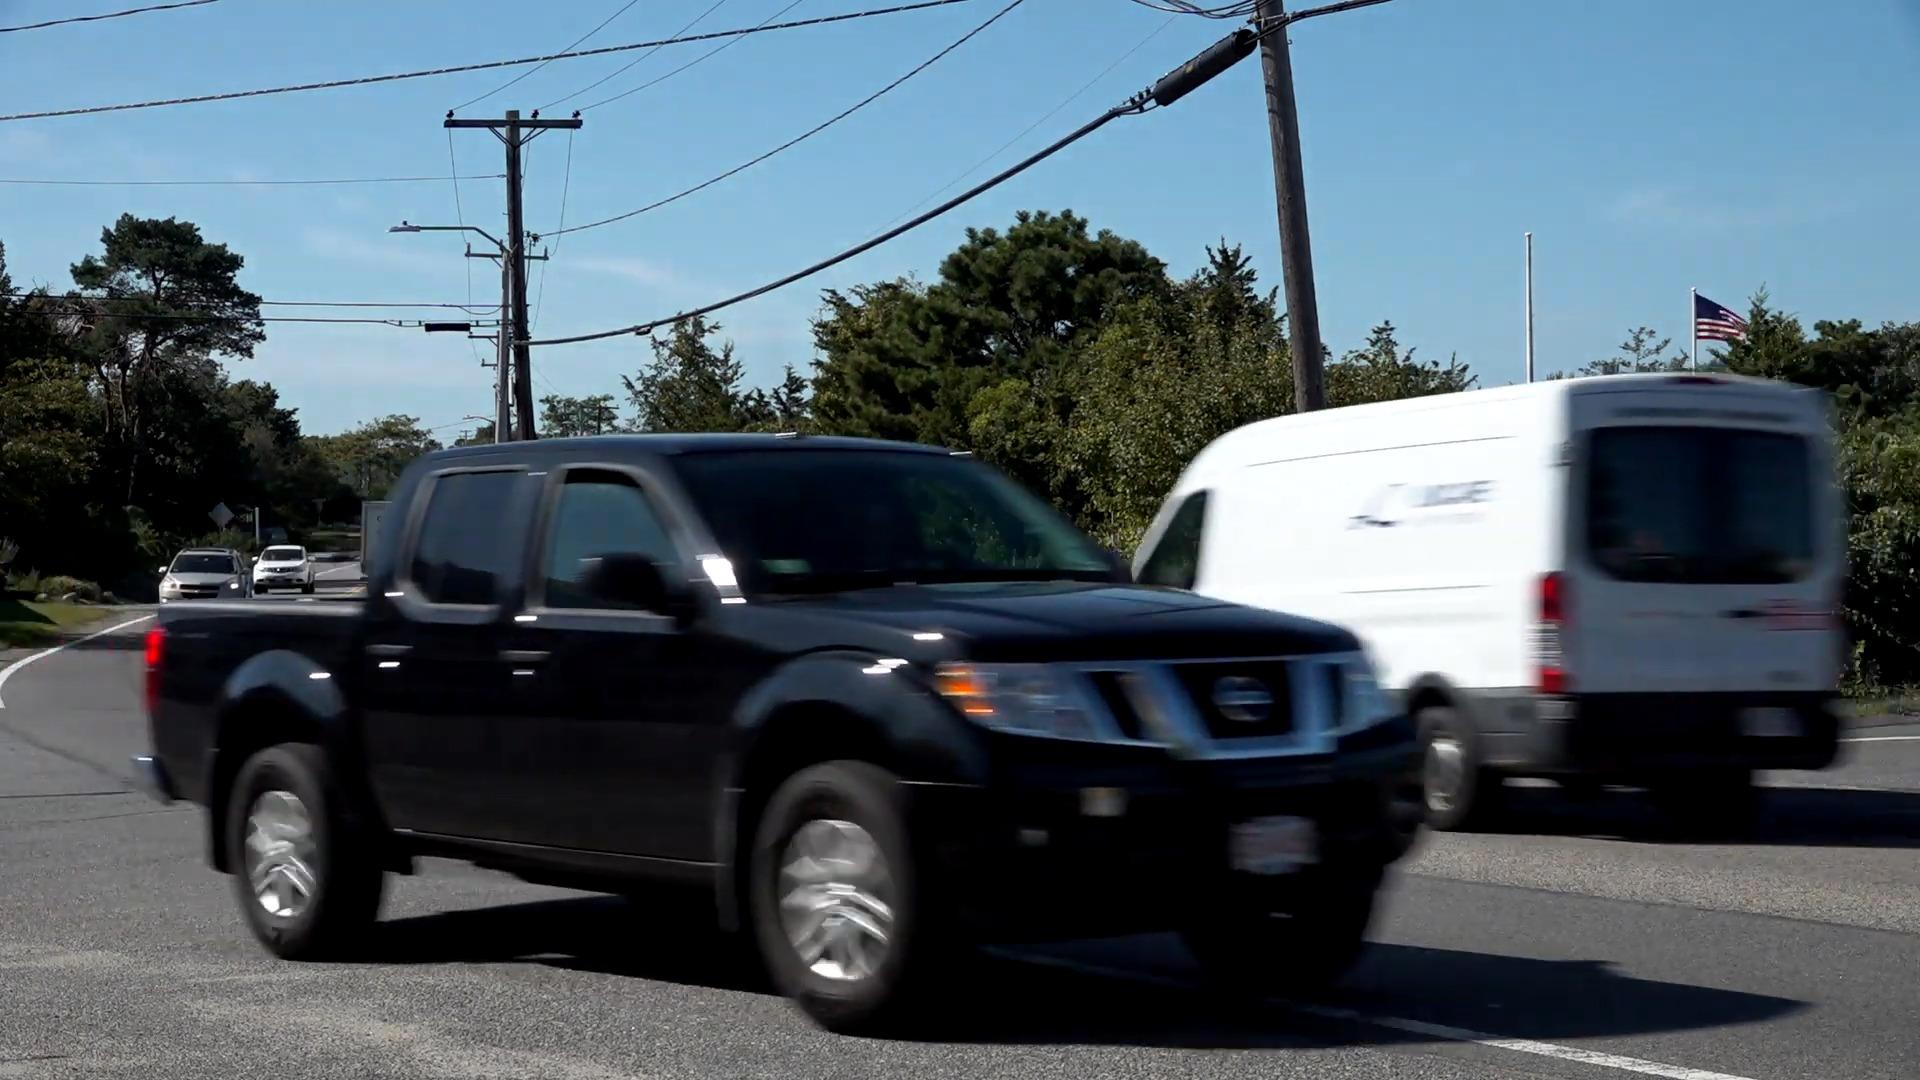minivan: (1425, 376, 1866, 837)
pickup: (146, 430, 1424, 1022)
suv: (158, 549, 245, 597), (255, 547, 315, 587)
